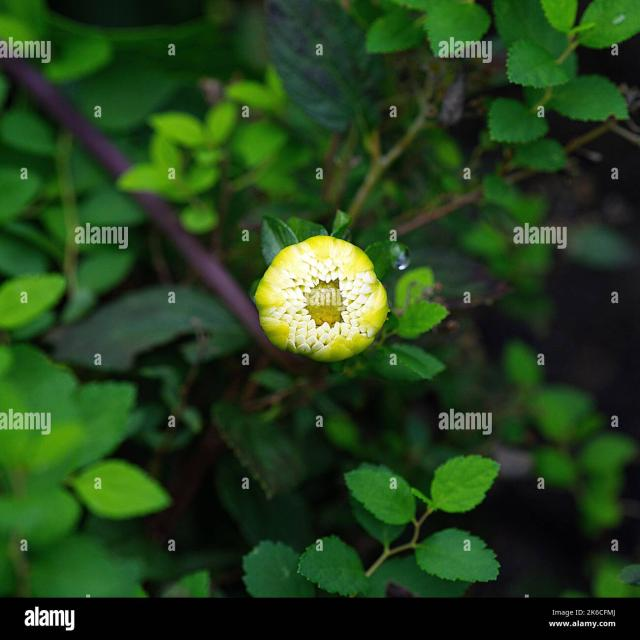Unbloomed: (252, 234, 390, 363)
